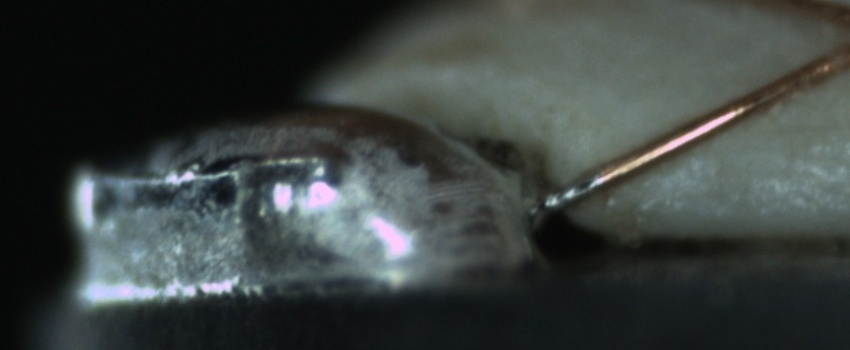TS: (538, 169, 607, 213)
